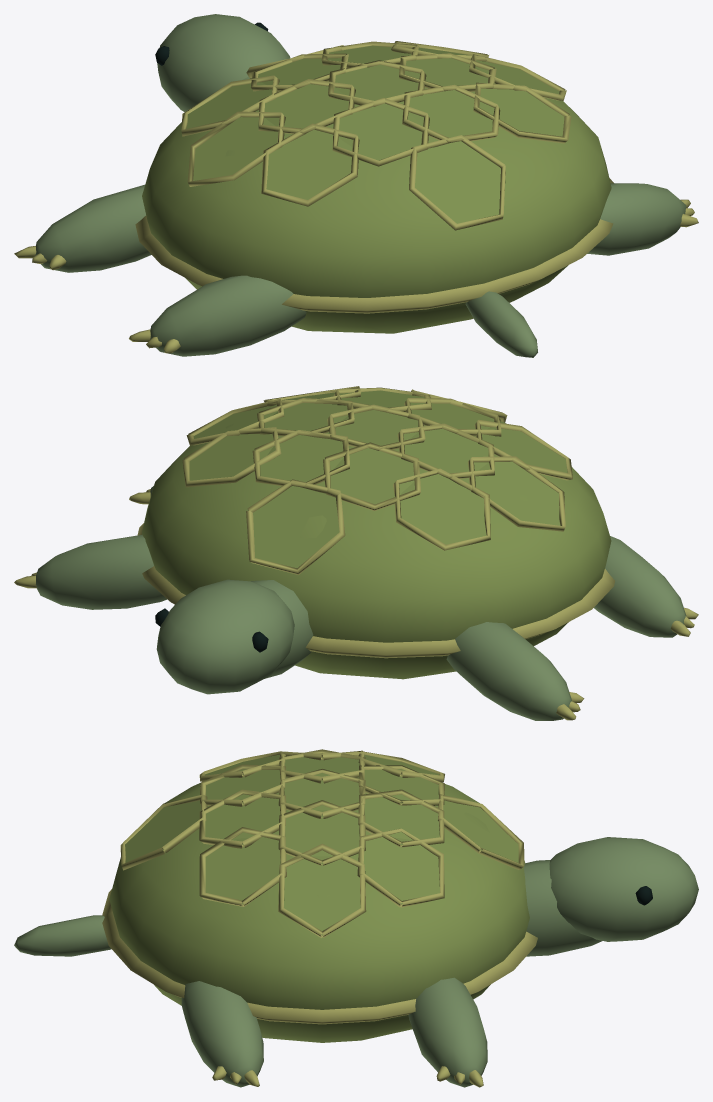
Rendered from turtle.glb.
3 renders of one model, top to bottom at view 1: azimuth 30°, elevation 25°; view 2: azimuth 150°, elevation 25°; view 3: azimuth 270°, elevation 25°, orthographic. The views are drawn at different scales.
Visible parts, largest first — view 1: TURTLE; view 2: TURTLE; view 3: TURTLE.
Part boxes in pixels (x1,y1,x2,y2): TURTLE: (14,14,698,357); TURTLE: (14,386,698,720); TURTLE: (14,749,698,1087).
Bounding box in the file's own units: 1.16 × 0.4338 × 1.25.
